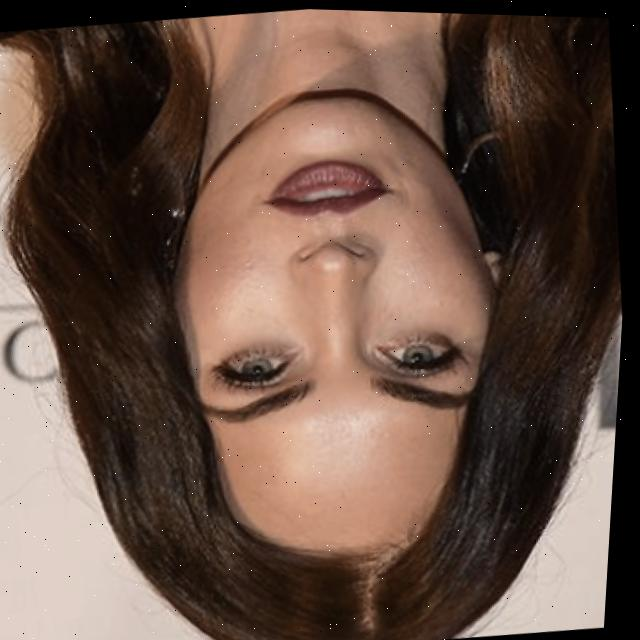natural: (59, 81, 620, 640)
